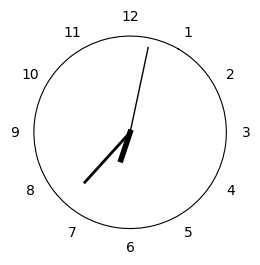12: (122, 10, 139, 23)
circle: (34, 36, 227, 229)
hours: (118, 129, 133, 163)
minutes: (83, 135, 127, 184)
seconds: (131, 47, 149, 129)
